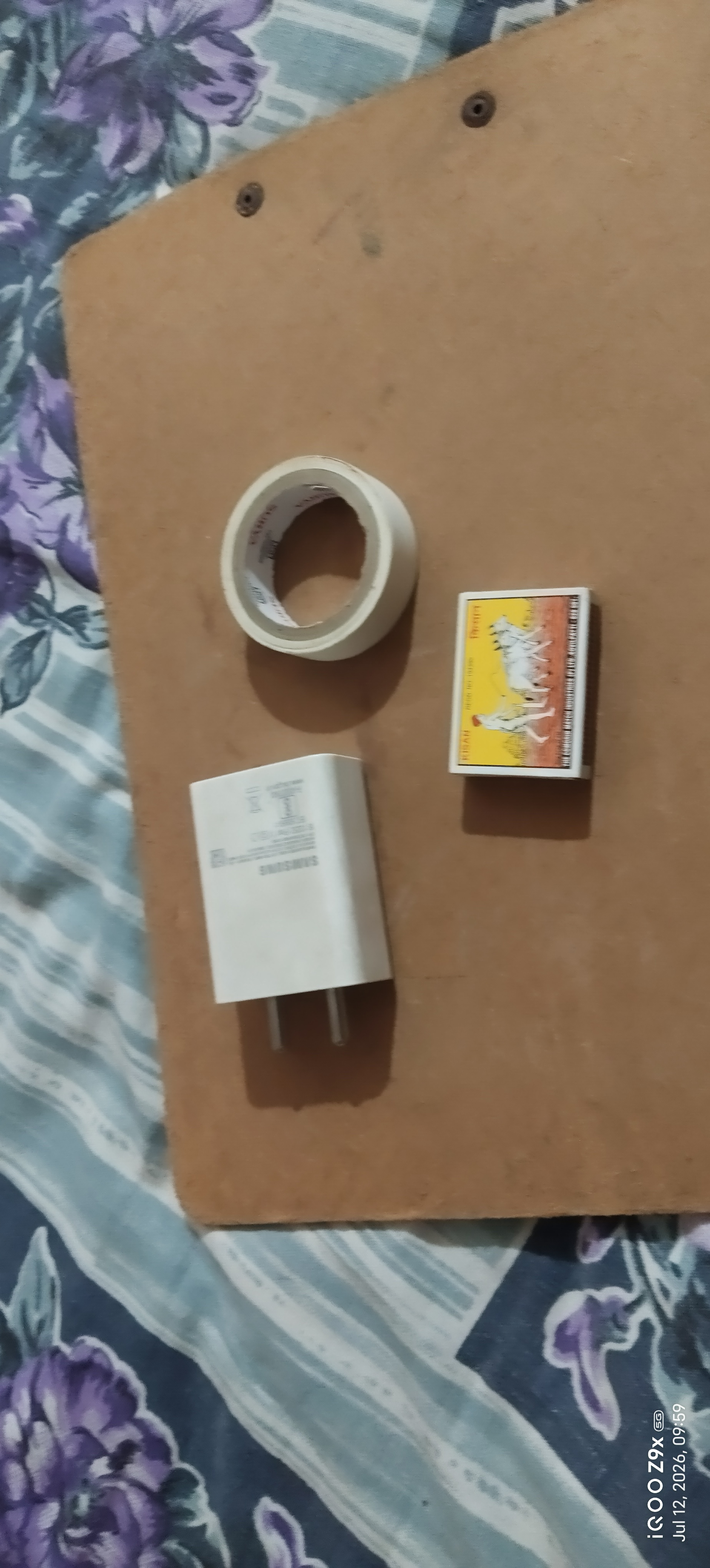charger: (174, 727, 420, 1072)
matchbox: (435, 568, 614, 820)
tape_roll: (209, 432, 429, 690)
